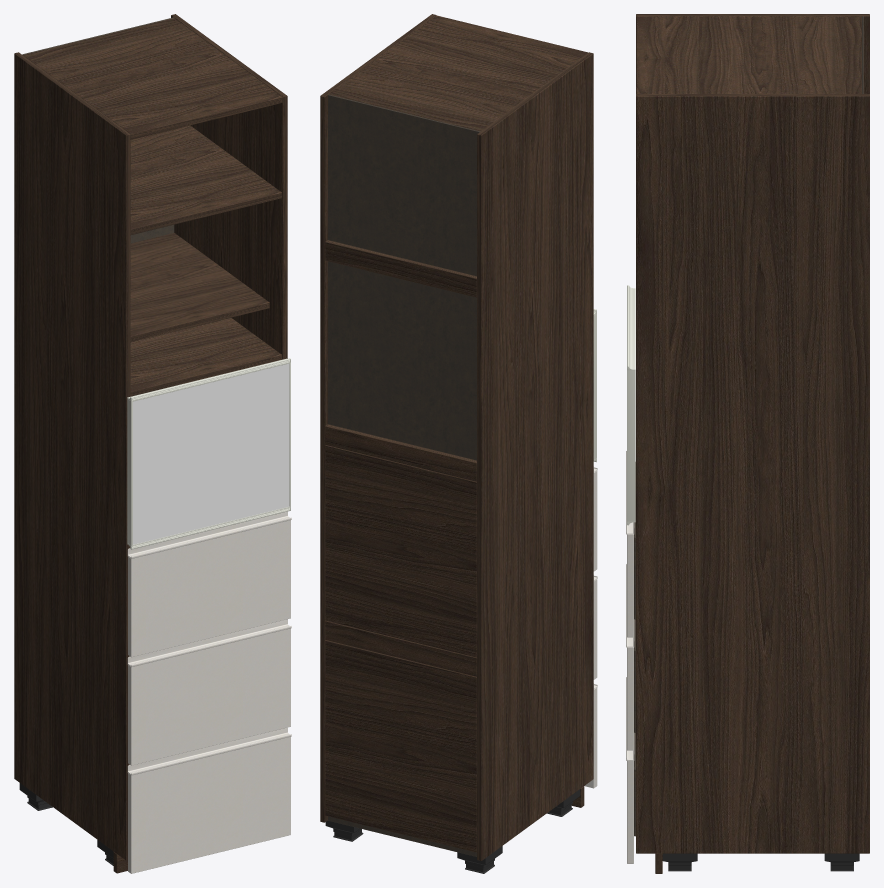
The picture shows the model from 3 angles, left to right: view 1: azimuth 30°, elevation 25°; view 2: azimuth 150°, elevation 25°; view 3: azimuth 270°, elevation 25°; orthographic projection. The views are drawn at different scales.
Visible parts, largest first — view 1: HK1001285, LIFTUP_01; view 2: HK1001285, LIFTUP_01; view 3: HK1001285, LIFTUP_01.
Boxes of the visible parts, <box> form: HK1001285: <box>14,14,291,873</box>; LIFTUP_01: <box>127,358,290,549</box>; HK1001285: <box>320,14,597,873</box>; LIFTUP_01: <box>593,309,596,462</box>; HK1001285: <box>626,14,869,873</box>; LIFTUP_01: <box>627,285,635,525</box>.
Size of the model in its own units: 0.5 by 2.2 by 0.6256.
10 materials, 6 textured.
